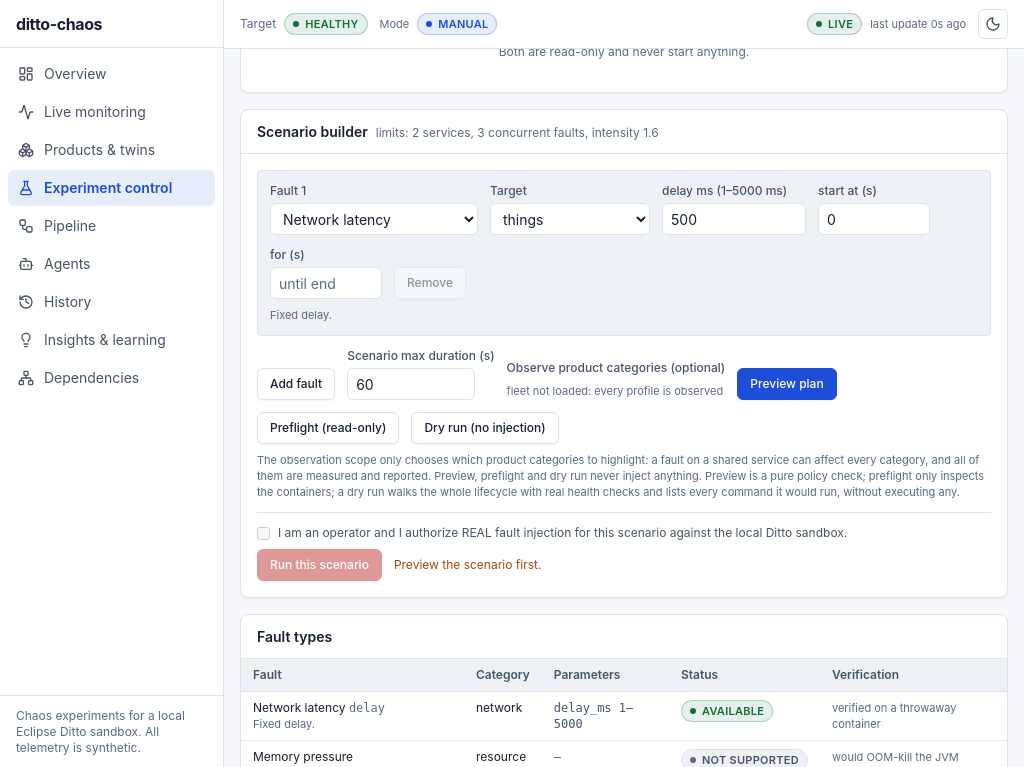
it: Experiment control › editing the scenario invalidates the preview
The width and height of the screenshot is (1024, 767).
(page scrolled)
Click the button "Preview plan" at (787, 384), box [737,368,837,400]
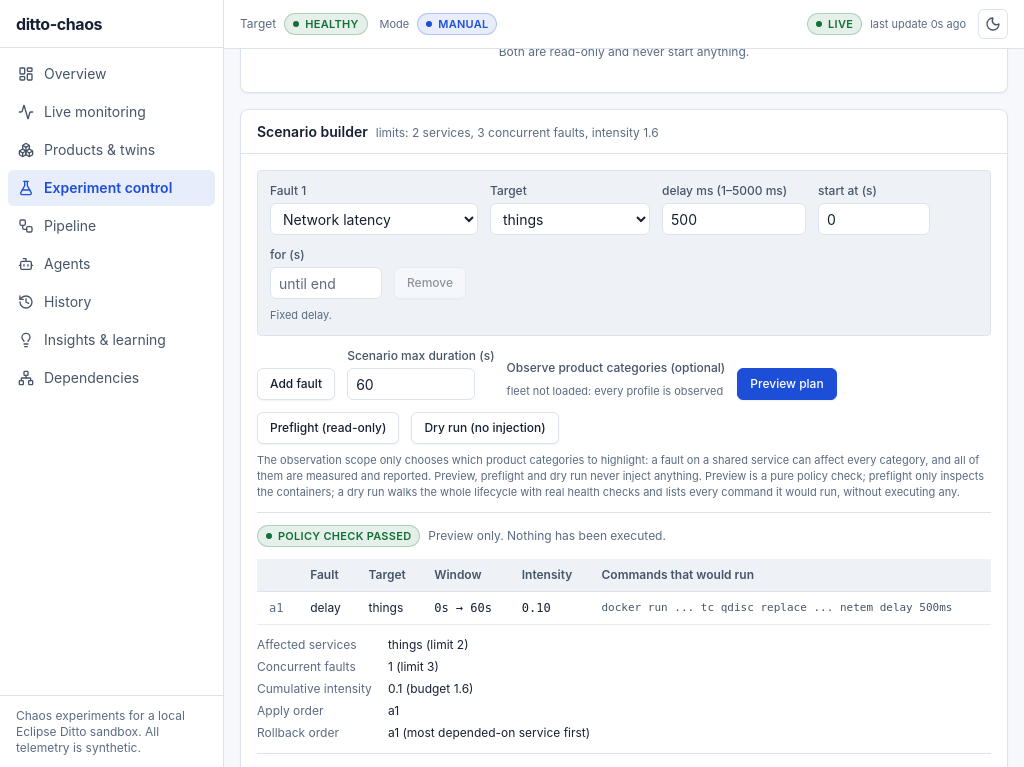
Expected: the text "policy check passed" is shown, [257,525,420,547]
Select "mongodb" in the dropdown labelled "Target" at (570, 219), box [490,203,650,235]
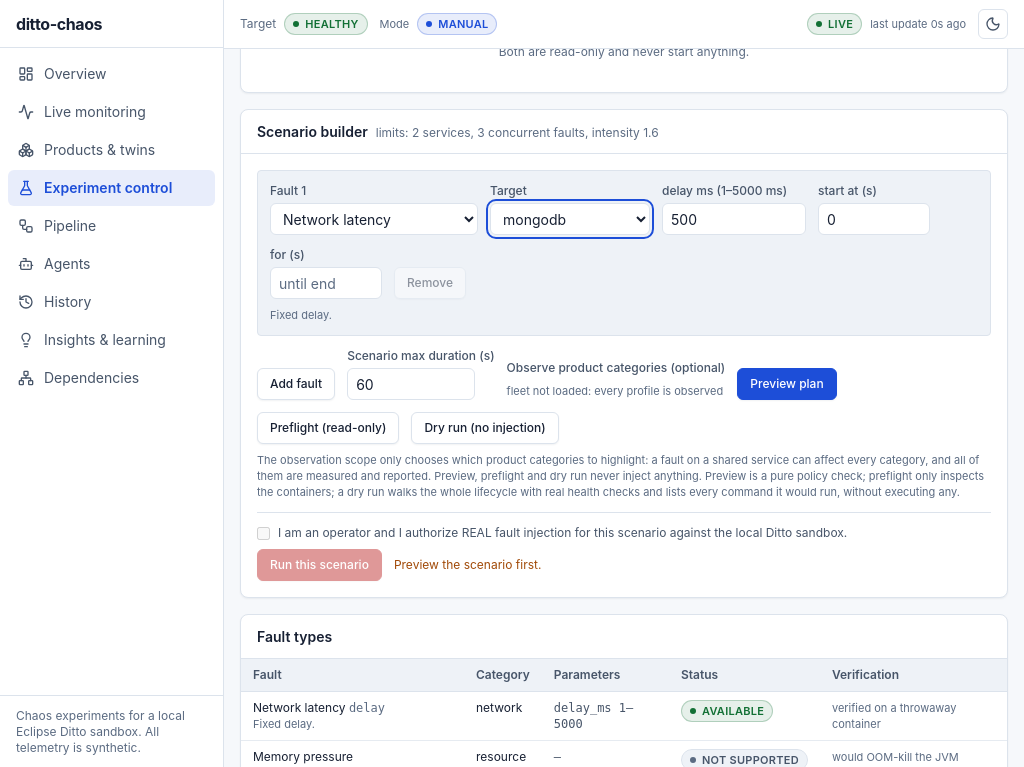
Expected: the text "policy check passed" is gone
Expected: the text "Preview the scenario first." is shown, [394,557,541,573]
